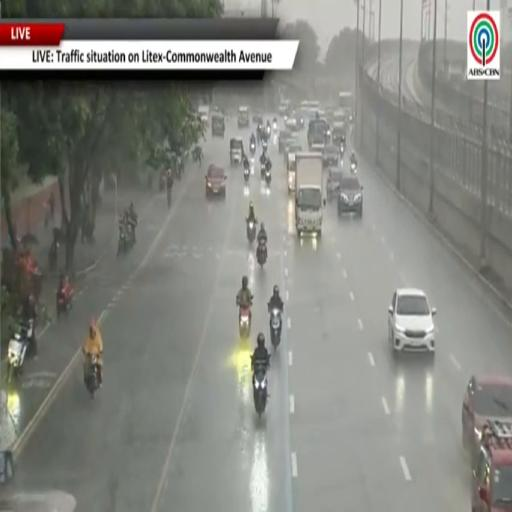bus: (338, 92, 354, 112)
car: (462, 375, 511, 458), (472, 420, 511, 511), (388, 288, 436, 355), (338, 174, 363, 217), (206, 165, 226, 197), (326, 167, 342, 201), (285, 140, 302, 164), (230, 137, 244, 165), (323, 144, 339, 168), (212, 112, 225, 138), (284, 136, 300, 154), (278, 131, 291, 153), (332, 124, 345, 146), (197, 104, 209, 127), (238, 106, 250, 127), (285, 117, 300, 132), (334, 110, 346, 123), (252, 113, 264, 126), (325, 107, 334, 124), (279, 101, 289, 116)
motorcycle: (7, 320, 34, 382), (252, 357, 267, 417), (84, 355, 99, 398), (57, 283, 73, 318), (117, 224, 133, 255), (270, 309, 281, 349), (239, 307, 250, 338), (48, 240, 58, 270), (257, 239, 267, 267), (247, 220, 256, 243), (167, 188, 172, 209), (265, 169, 271, 184), (244, 168, 250, 182), (261, 164, 266, 179), (250, 141, 255, 155), (262, 138, 267, 151), (340, 143, 345, 156), (351, 163, 357, 173), (266, 125, 270, 137), (273, 122, 277, 132)
truck: (294, 152, 326, 237), (286, 153, 296, 193)
